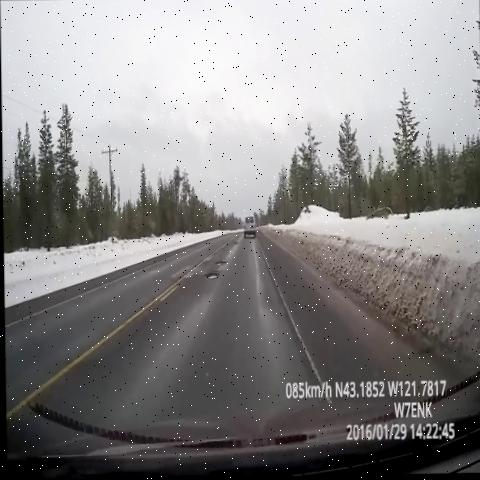pothole: (200, 265, 223, 289), (211, 257, 233, 271), (231, 236, 243, 252)
